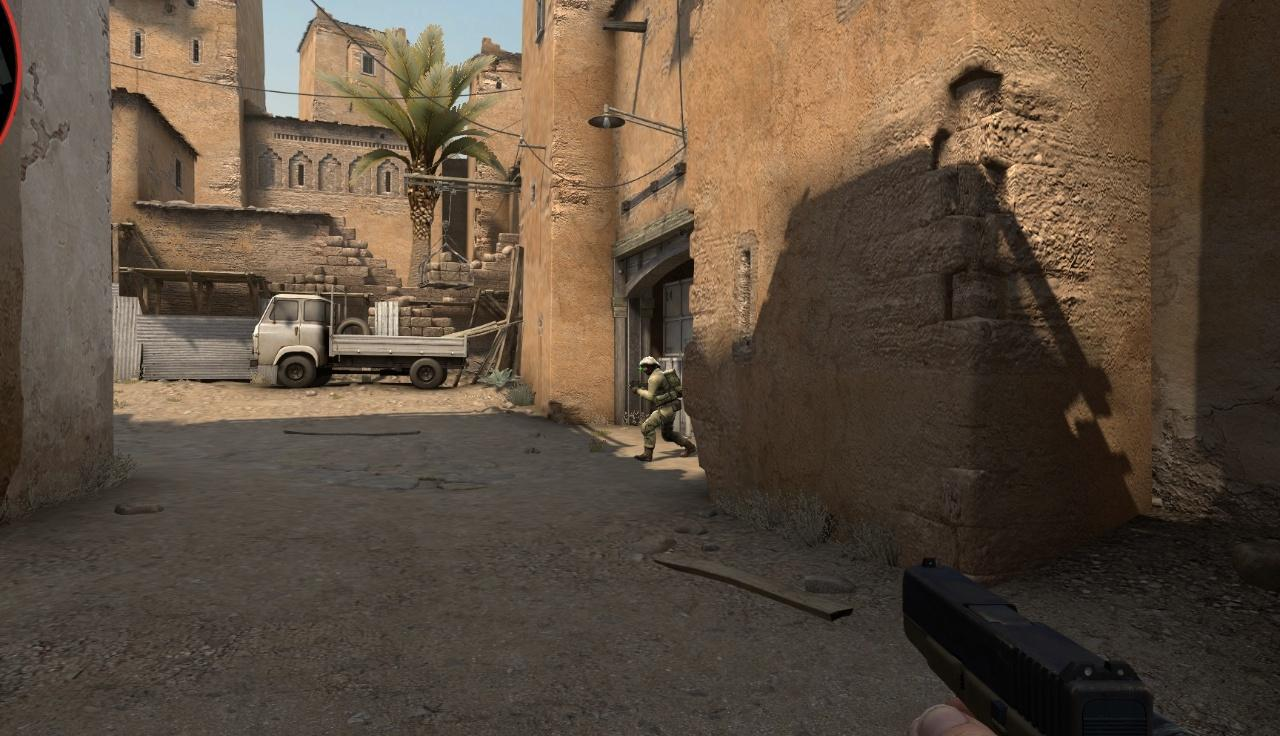ct: (634, 356, 683, 461)
cthead: (642, 357, 655, 374)
pistol: (899, 554, 1235, 736)
